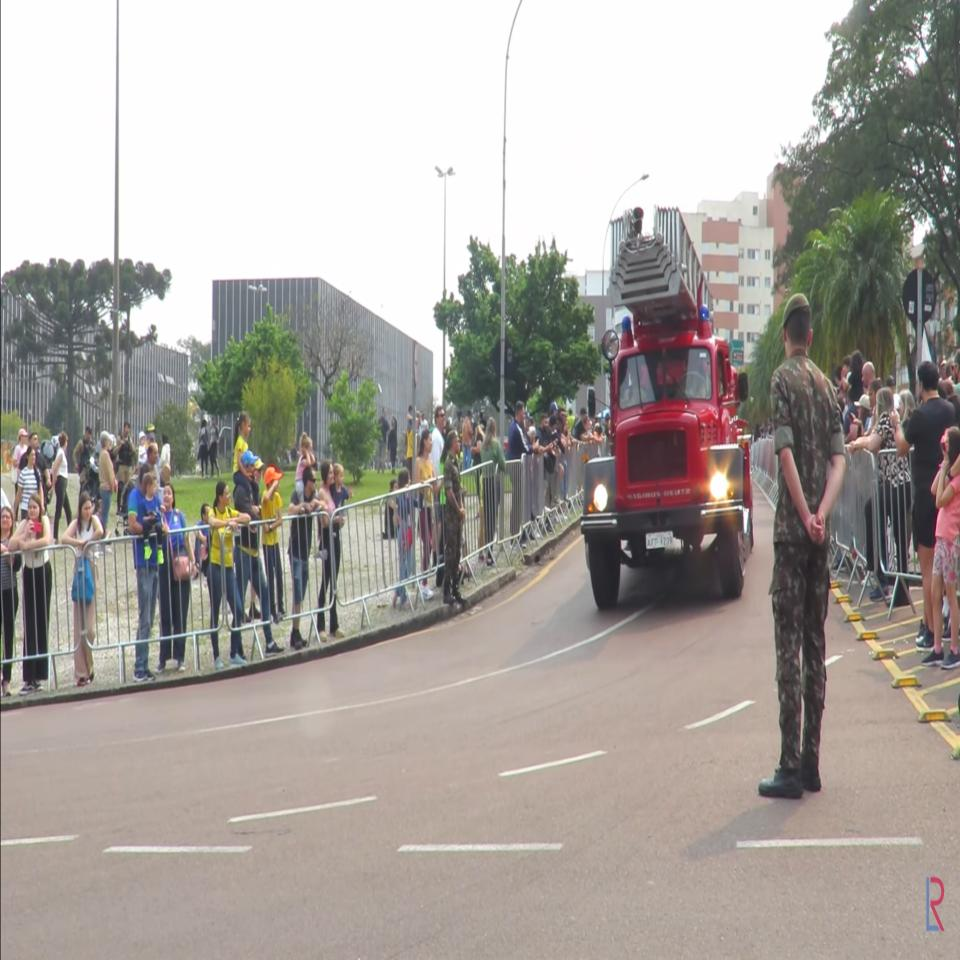viatura: (576, 200, 758, 601)
